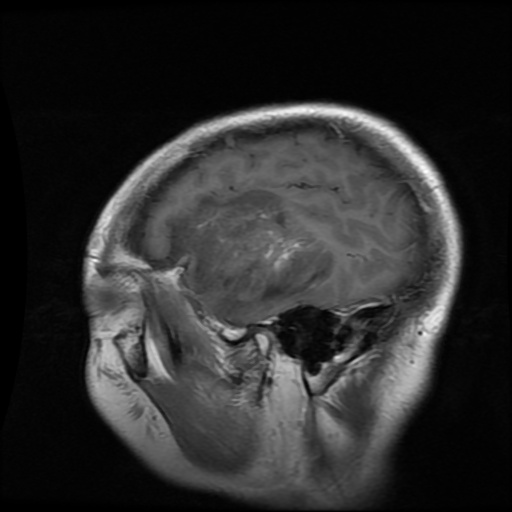glioma: (171, 190, 333, 305)
